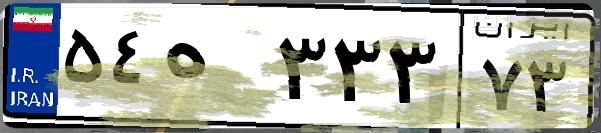3: (270, 28, 330, 110), (385, 28, 445, 110), (330, 28, 385, 110), (525, 38, 570, 115)
4: (110, 28, 158, 98)
5: (57, 26, 110, 100)
7: (475, 38, 525, 113)
ه: (158, 20, 270, 120)
